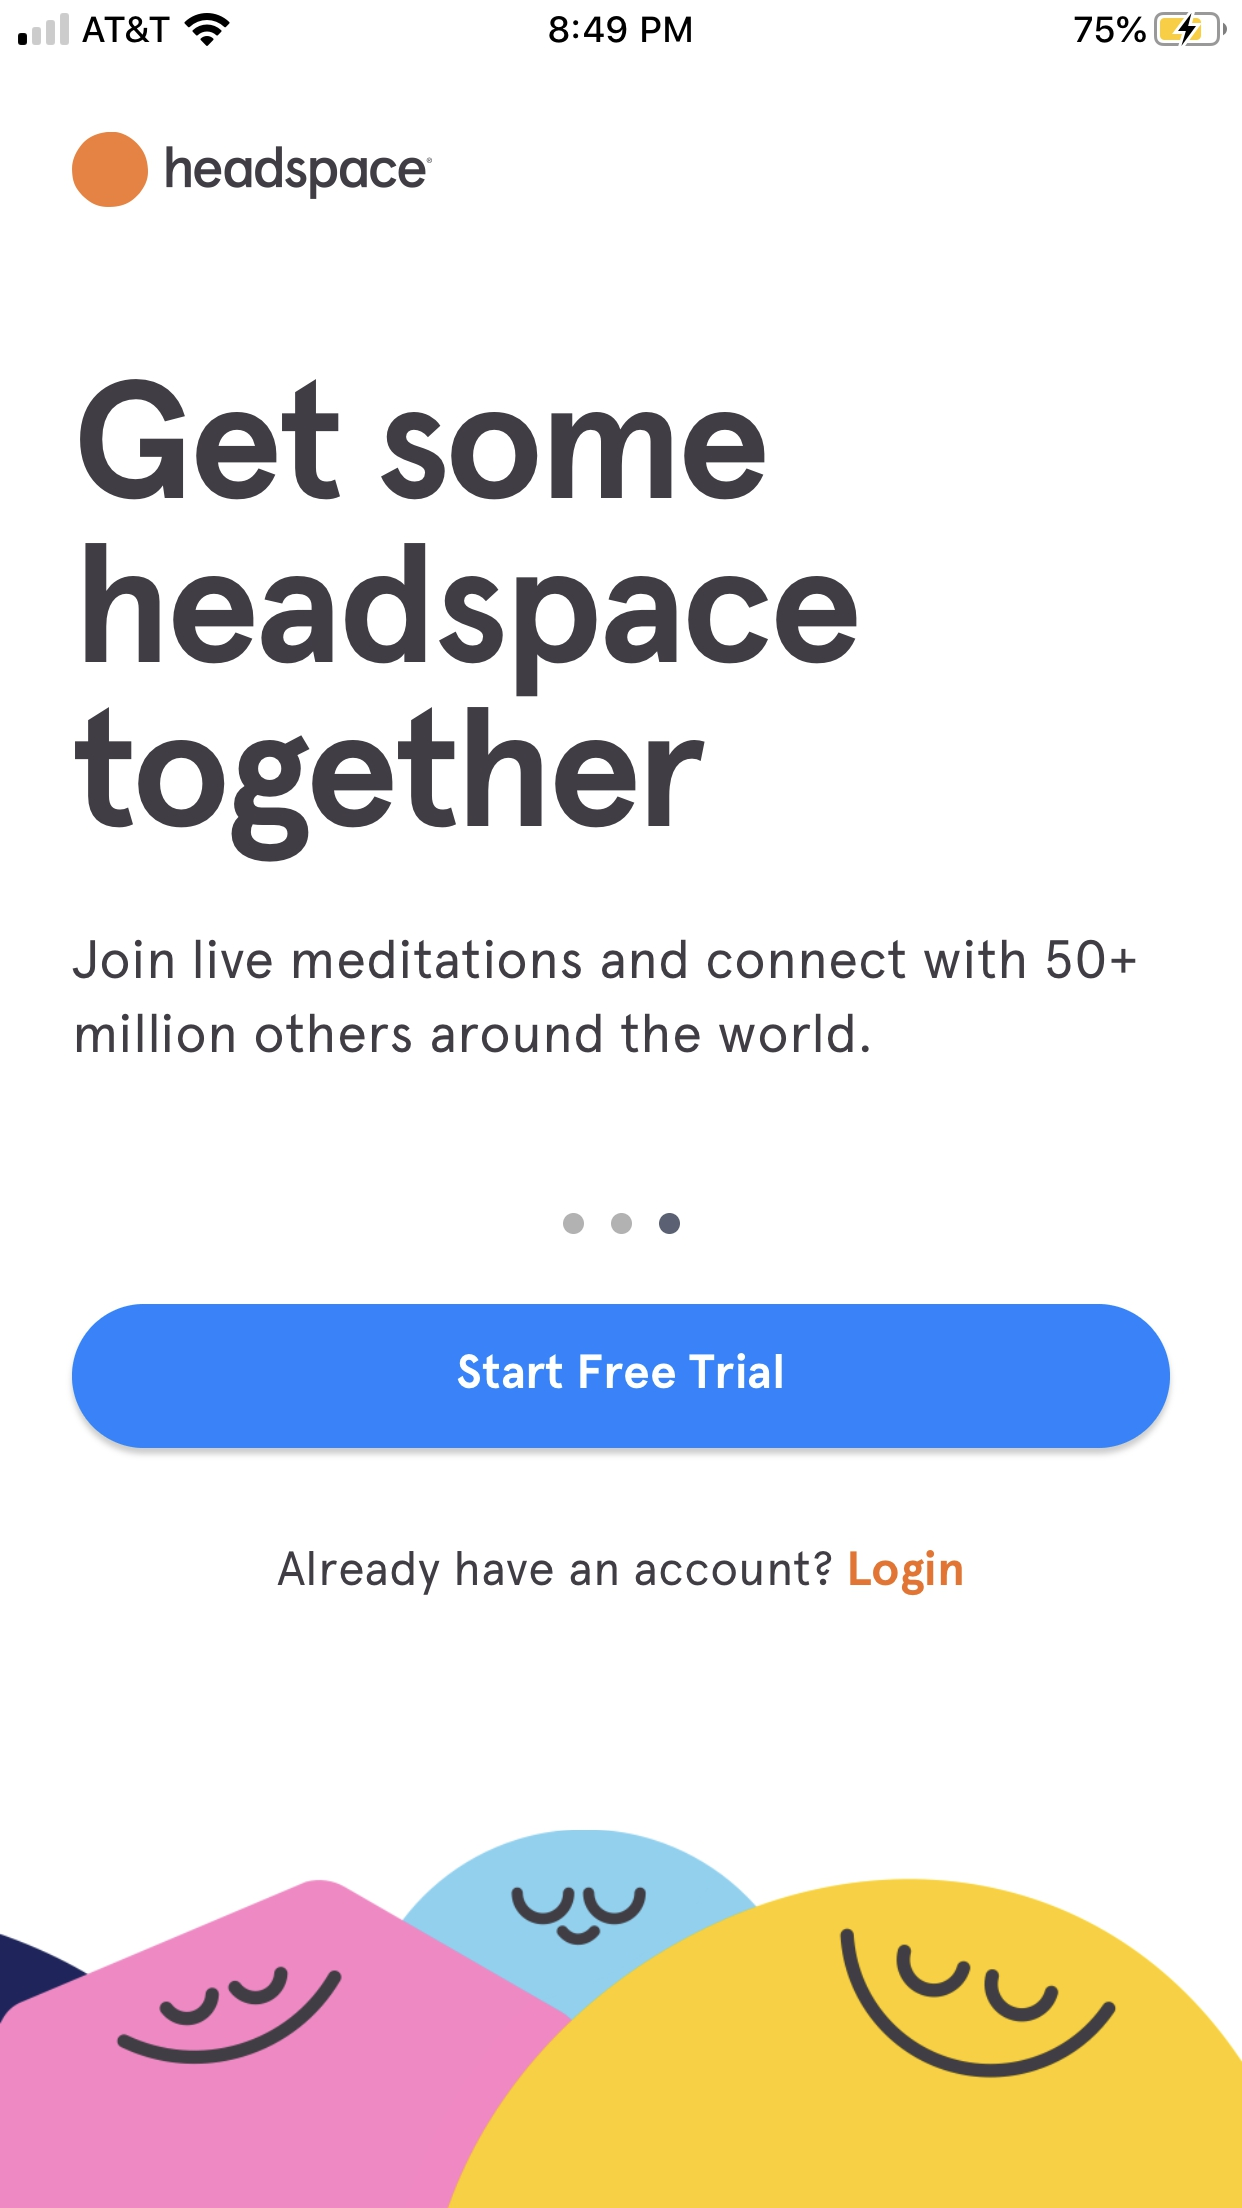Image: (2, 1832, 1240, 2206), (71, 132, 149, 208)
PageIndicator: (563, 1213, 679, 1234)
Text: (74, 379, 857, 861), (71, 939, 1136, 1052), (278, 1551, 833, 1595), (165, 146, 432, 199), (851, 1550, 961, 1595)
TextButton: (71, 1304, 1171, 1448)
UpperTaskBar: (2, 2, 1242, 47)
